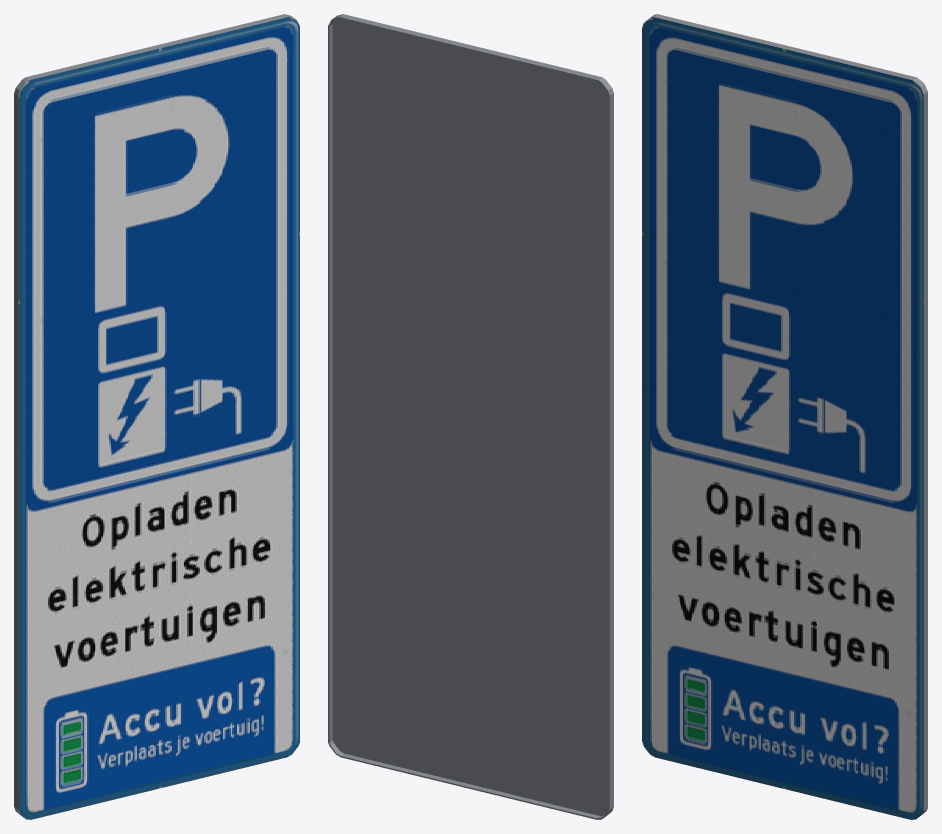
The picture shows the model from 3 angles, left to right: view 1: azimuth 30°, elevation 25°; view 2: azimuth 150°, elevation 25°; view 3: azimuth 330°, elevation 25°; orthographic projection.
Visible parts, largest first — view 1: cat_954e9c260c721061; view 2: cat_954e9c260c721061; view 3: cat_954e9c260c721061.
Boxes of the visible parts, x1,y1,x2,y2 form: cat_954e9c260c721061: (14, 14, 299, 819); cat_954e9c260c721061: (328, 14, 613, 819); cat_954e9c260c721061: (642, 14, 927, 819).
Size of the model in its own units: 0.6 by 0.015 by 1.51.
2 materials, 1 textured.
